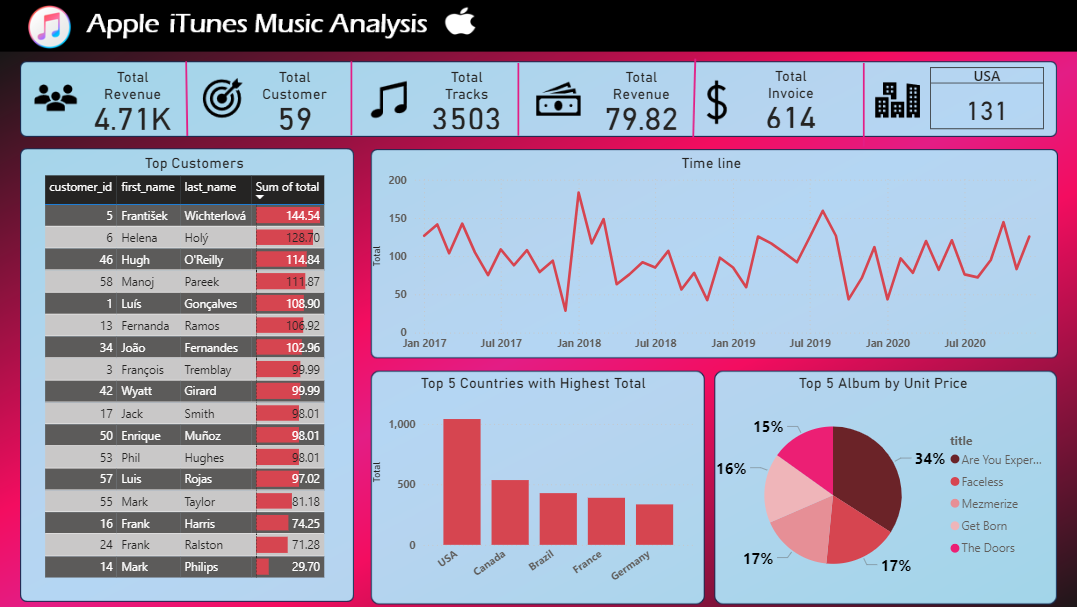

What the dashboard file says about the page in this screenshot:
{"tool":"powerbi","page":{"name":"Page 2","canvas":[1280,720],"ordinal":0},"visuals":[{"type":"card","title":"Total Revenue","fields":{"Values":["Sum(invoice.total)"]},"box":[122.6,85.1,109.6,75],"z":0},{"type":"card","title":"Total Customer","fields":{"Values":["CountNonNull(customer.customer_id)"]},"box":[300.1,85.1,122.6,75],"z":1000},{"type":"card","title":"Total Invoice","fields":{"Values":["CountNonNull(invoice.invoice_id)"]},"box":[879.2,83.6,94.3,74.8],"z":2000},{"type":"card","title":"Total Revenue","fields":{"Values":["album.Average Spend per Customer"]},"box":[707,85.1,98.1,75],"z":3000},{"type":"card","title":"Total Tracks","fields":{"Values":["CountNonNull(track.track_id)"]},"box":[509,85.4,96.1,74.8],"z":4000},{"type":"cardVisual","title":"USA","fields":{"Rows":["invoice.billing_country"],"Data":["CountNonNull(invoice.invoice_id)"]},"box":[1059,80.1,179.8,80.1],"z":5000},{"type":"lineChart","title":"Time line","fields":{"Y":["Sum(invoice.total)"],"Category":["invoice.invoice_date.Variation.Date Hierarchy.Year","invoice.invoice_date.Variation.Date Hierarchy.Month"]},"box":[444.9,183.3,781.3,233.2],"z":6000},{"type":"columnChart","title":"Top 5 Countries with Highest Total","fields":{"Category":["invoice.billing_country"],"Y":["Sum(invoice.total)"]},"box":[444.9,434.3,375.5,256.3],"z":7000},{"type":"tableEx","title":"Top Customers","fields":{"Values":["customer.customer_id","customer.first_name","customer.last_name","Sum(invoice.total)"]},"box":[71.2,183.3,352.4,507.2],"z":8000},{"type":"pieChart","title":"Top 5 Album by Unit Price","fields":{"Category":["album.title"],"Y":["Sum(invoice_line.unit_price)"]},"box":[836.5,434.3,389.8,256.3],"z":9000}]}

Visuals, with their boxes in screenshot pixels (x1, y1, x2, y2), scaled from the page's 1280x720 canvas onto the 1077x607 screenshot:
"Total Revenue" card: select_region(103, 72, 195, 135)
"Total Customer" card: select_region(253, 72, 356, 135)
"Total Invoice" card: select_region(740, 70, 819, 134)
"Total Revenue" card: select_region(595, 72, 677, 135)
"Total Tracks" card: select_region(428, 72, 509, 135)
"USA" cardVisual: select_region(891, 68, 1042, 135)
"Time line" lineChart: select_region(374, 155, 1032, 351)
"Top 5 Countries with Highest Total" columnChart: select_region(374, 366, 690, 582)
"Top Customers" tableEx: select_region(60, 155, 356, 582)
"Top 5 Album by Unit Price" pieChart: select_region(704, 366, 1032, 582)
